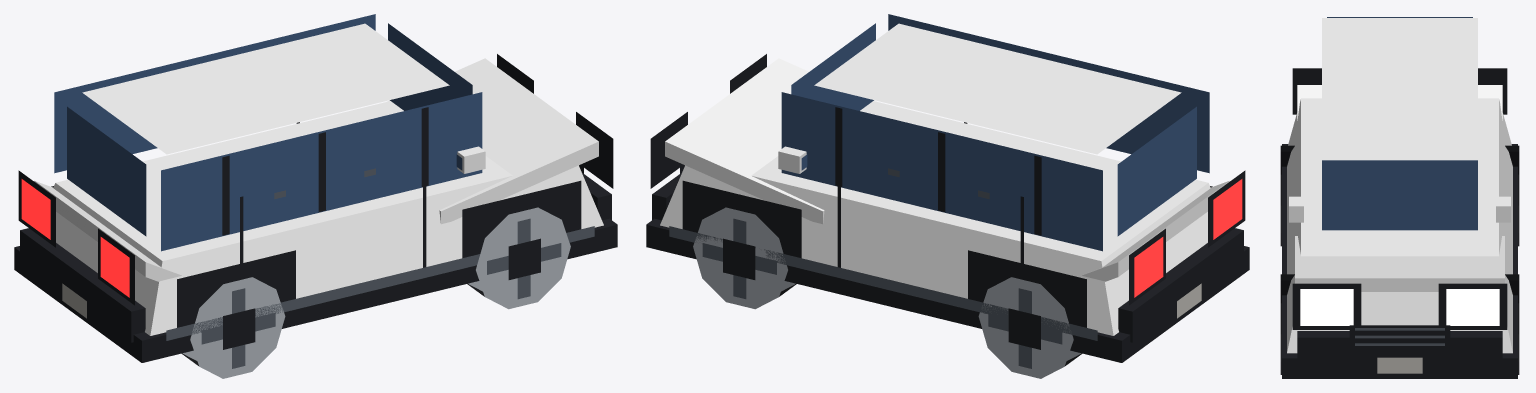
File: car_suv.glb
The picture shows the model from 3 angles, left to right: view 1: azimuth 30°, elevation 25°; view 2: azimuth 150°, elevation 25°; view 3: azimuth 270°, elevation 25°; orthographic projection. The views are drawn at different scales.
Parts seen in each view (by area): view 1: car_suv; view 2: car_suv; view 3: car_suv.
Boxes of the visible parts, left/top/right/bottom form: car_suv: left=14, top=14, right=617, bottom=378; car_suv: left=646, top=14, right=1249, bottom=378; car_suv: left=1280, top=17, right=1519, bottom=378.
Size of the model in its own units: 0.4061 by 0.1738 by 0.1924.
